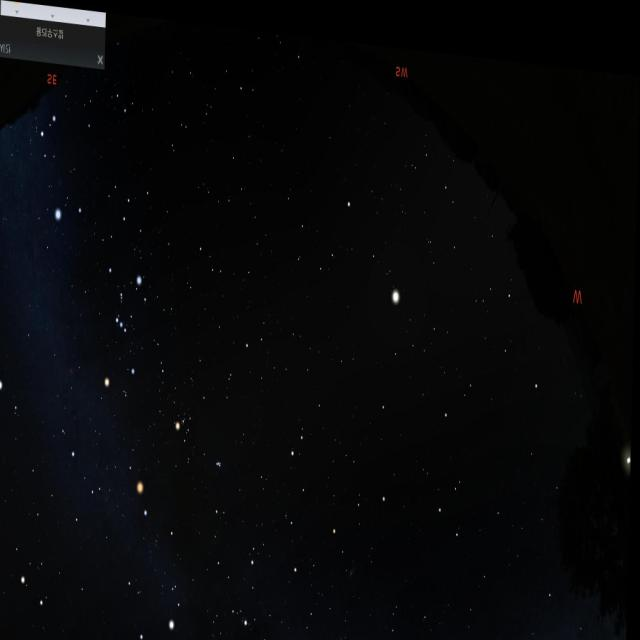canis_minor: (0, 357, 33, 432)
gemini: (12, 458, 120, 620)
orion: (96, 252, 148, 388)
pleiades: (212, 438, 232, 476)
taurus: (167, 390, 237, 492)
